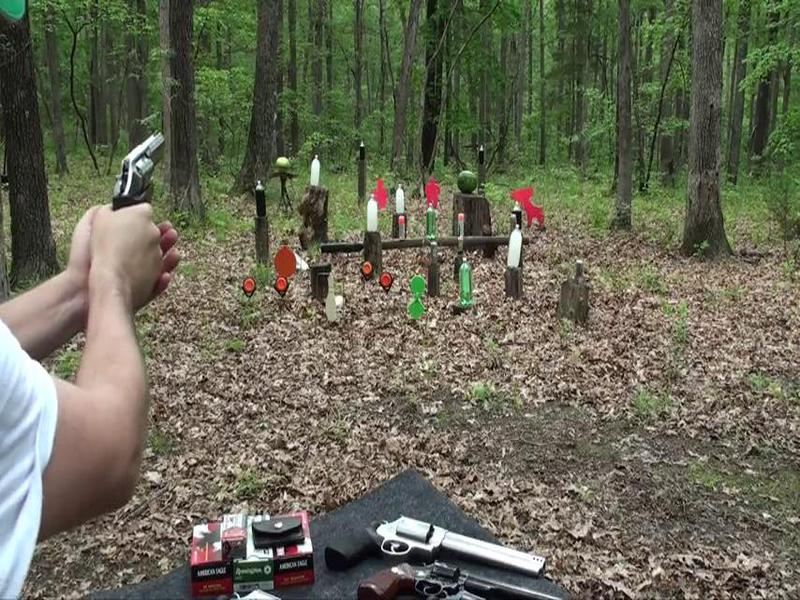Revolver: (99, 122, 182, 225)
